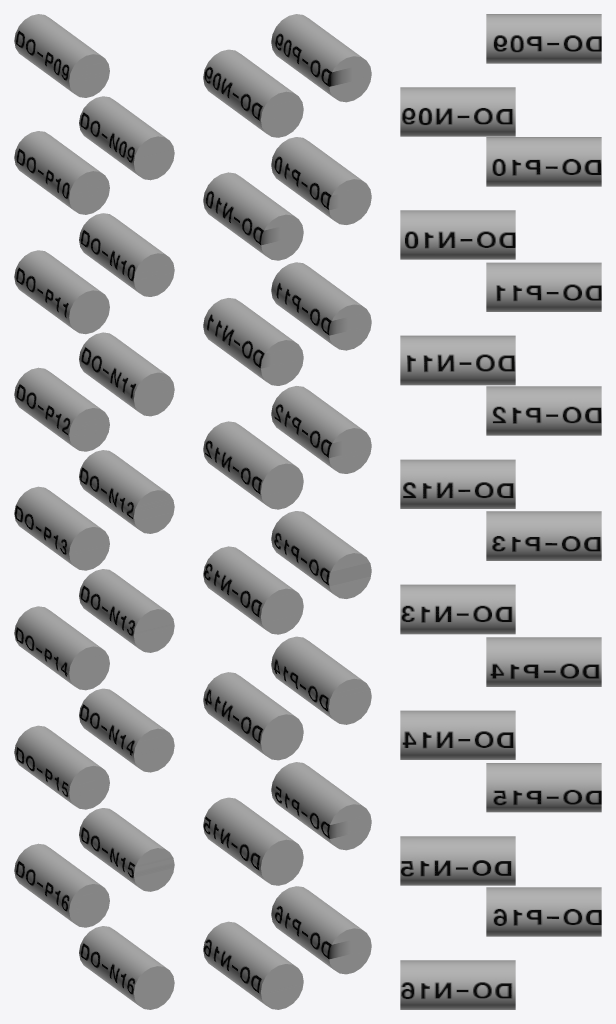
Rendered from number6.FBX.
3 renders of one model, left to right at view 1: azimuth 30°, elevation 25°; view 2: azimuth 210°, elevation 25°; view 3: azimuth 270°, elevation 25°, orthographic. The views are drawn at different scales.
Parts seen in each view (by area): view 1: Object5245, Object5253; view 2: Object5245, Object5253; view 3: Object5253, Object5245.
Boxes of the visible parts, x1,y1,x2,y2 form: Object5245: (14, 14, 109, 927); Object5253: (79, 96, 174, 1009); Object5245: (271, 14, 371, 974); Object5253: (203, 49, 303, 1009); Object5253: (400, 87, 515, 1009); Object5245: (486, 14, 601, 936).
Bounding box in the file's own units: 1.07 × 14.71 × 2.75.
